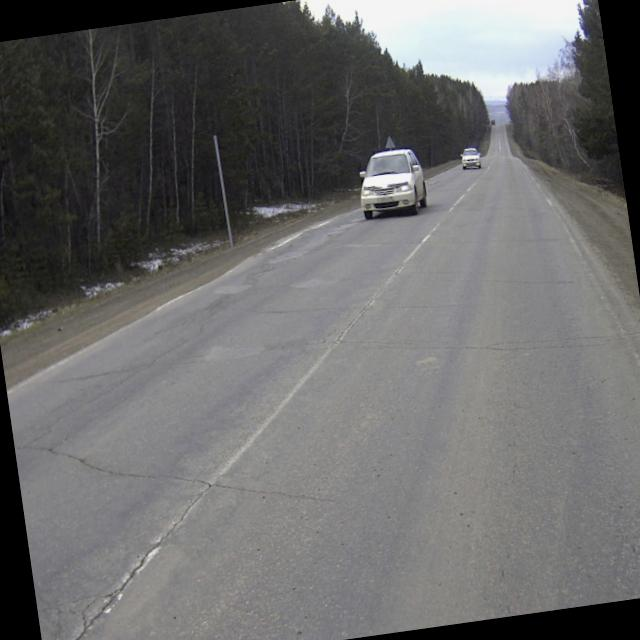road: (7, 124, 640, 640)
